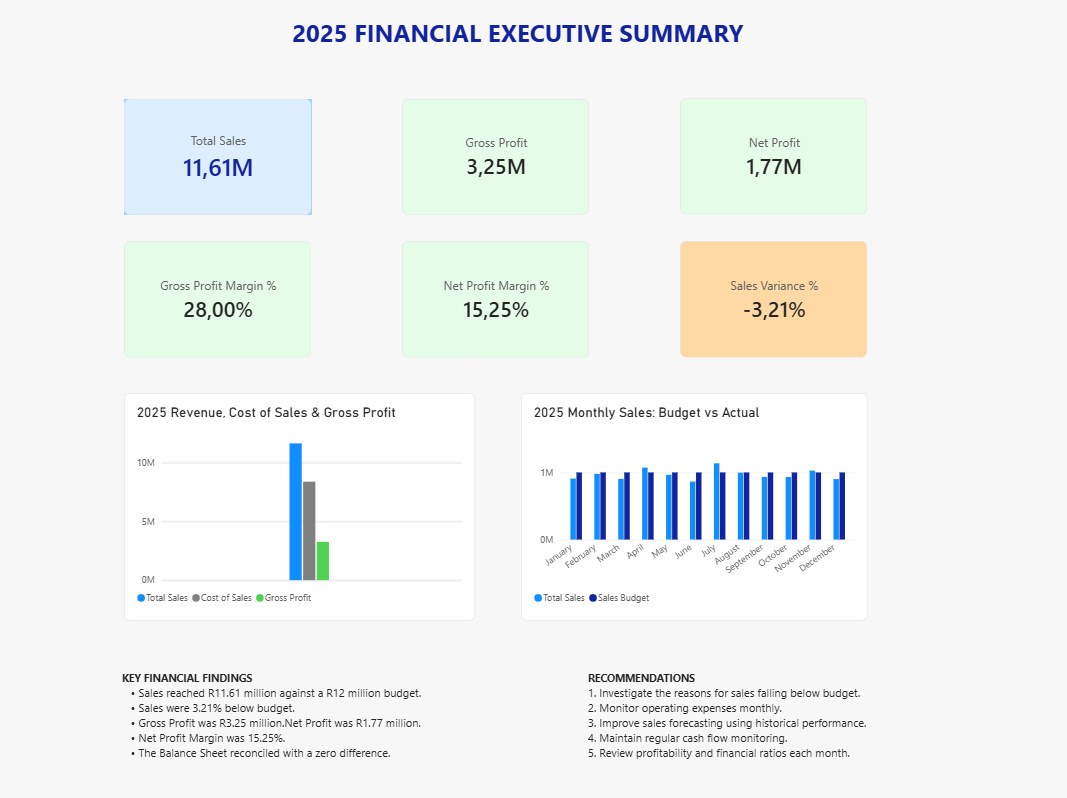

This screenshot's page, from the dashboard's own definition file:
{"tool":"powerbi","page":{"name":"2025 Executive Summary","canvas":[1920,1080],"ordinal":6},"visuals":[{"type":"cardVisual","fields":{"Data":["financial_ledger_2025.Total Sales"]},"box":[432.6,139.2,249.7,154.2],"z":0},{"type":"cardVisual","fields":{"Data":["financial_ledger_2025.Gross Profit"]},"box":[802.4,139.2,249.7,154.2],"z":1000},{"type":"cardVisual","fields":{"Data":["financial_ledger_2025.Gross Profit Margin %"]},"box":[432.6,328.9,249.7,155.6],"z":2000},{"type":"cardVisual","fields":{"Data":["Budget_2025.Sales Variance %"]},"box":[1172.2,328.9,249.7,155.6],"z":3000},{"type":"cardVisual","fields":{"Data":["financial_ledger_2025.Net Profit"]},"box":[1172.2,137.8,249.7,155.6],"z":4000},{"type":"cardVisual","fields":{"Data":["financial_ledger_2025.Net Profit Margin %"]},"box":[802.4,328.9,249.7,155.6],"z":5000},{"type":"textbox","box":[0,29.1,1920,72.7],"z":6000},{"type":"clusteredColumnChart","title":"2025 Revenue, Cost of Sales & Gross Profit","fields":{"Y":["financial_ledger_2025.Total Sales","financial_ledger_2025.Cost of Sales","financial_ledger_2025.Gross Profit"]},"box":[432.6,530.8,466.7,302.9],"z":7000},{"type":"clusteredColumnChart","title":"2025 Monthly Sales: Budget vs Actual","fields":{"Category":["Value to Month Number.Month Name"],"Y":["financial_ledger_2025.Total Sales","Value to Month Number.Sales Budget"]},"box":[960.7,530.8,461.2,302.9],"z":8000},{"type":"textbox","box":[429.9,900.6,457.1,155.6],"z":9000},{"type":"textbox","box":[1050,900,498,156],"z":10000}]}

Visuals, with their boxes on the page's 1920x1080 design canvas (x1, y1, x2, y2). These are canvas units, not pixel positions in the 1067x798 screenshot, which may show the page scaled, cropped or inside an application window:
cardVisual - financial_ledger_2025.Total Sales: 433:139:682:293
cardVisual - financial_ledger_2025.Gross Profit: 802:139:1052:293
cardVisual - financial_ledger_2025.Gross Profit Margin %: 433:329:682:484
cardVisual - Budget_2025.Sales Variance %: 1172:329:1422:484
cardVisual - financial_ledger_2025.Net Profit: 1172:138:1422:293
cardVisual - financial_ledger_2025.Net Profit Margin %: 802:329:1052:484
textbox: 0:29:1920:102
"2025 Revenue, Cost of Sales & Gross Profit" clusteredColumnChart: 433:531:899:834
"2025 Monthly Sales: Budget vs Actual" clusteredColumnChart: 961:531:1422:834
textbox: 430:901:887:1056
textbox: 1050:900:1548:1056
